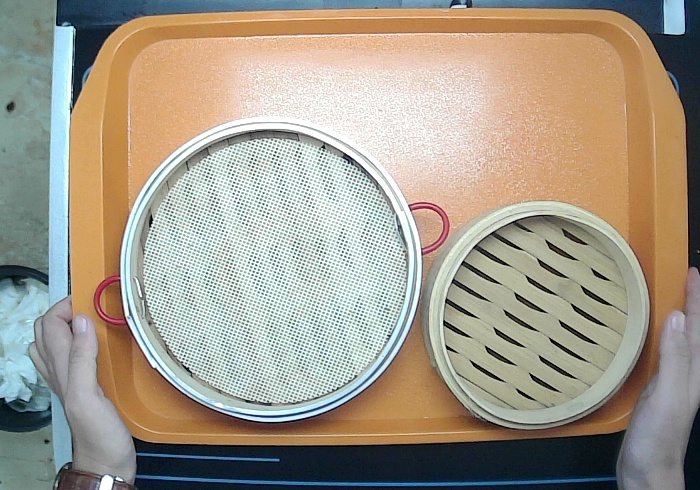ZNLD-Da_Zheng_Long: (89, 114, 454, 427)
ZNLD-Xiao_Zheng_Long: (420, 198, 654, 435)
